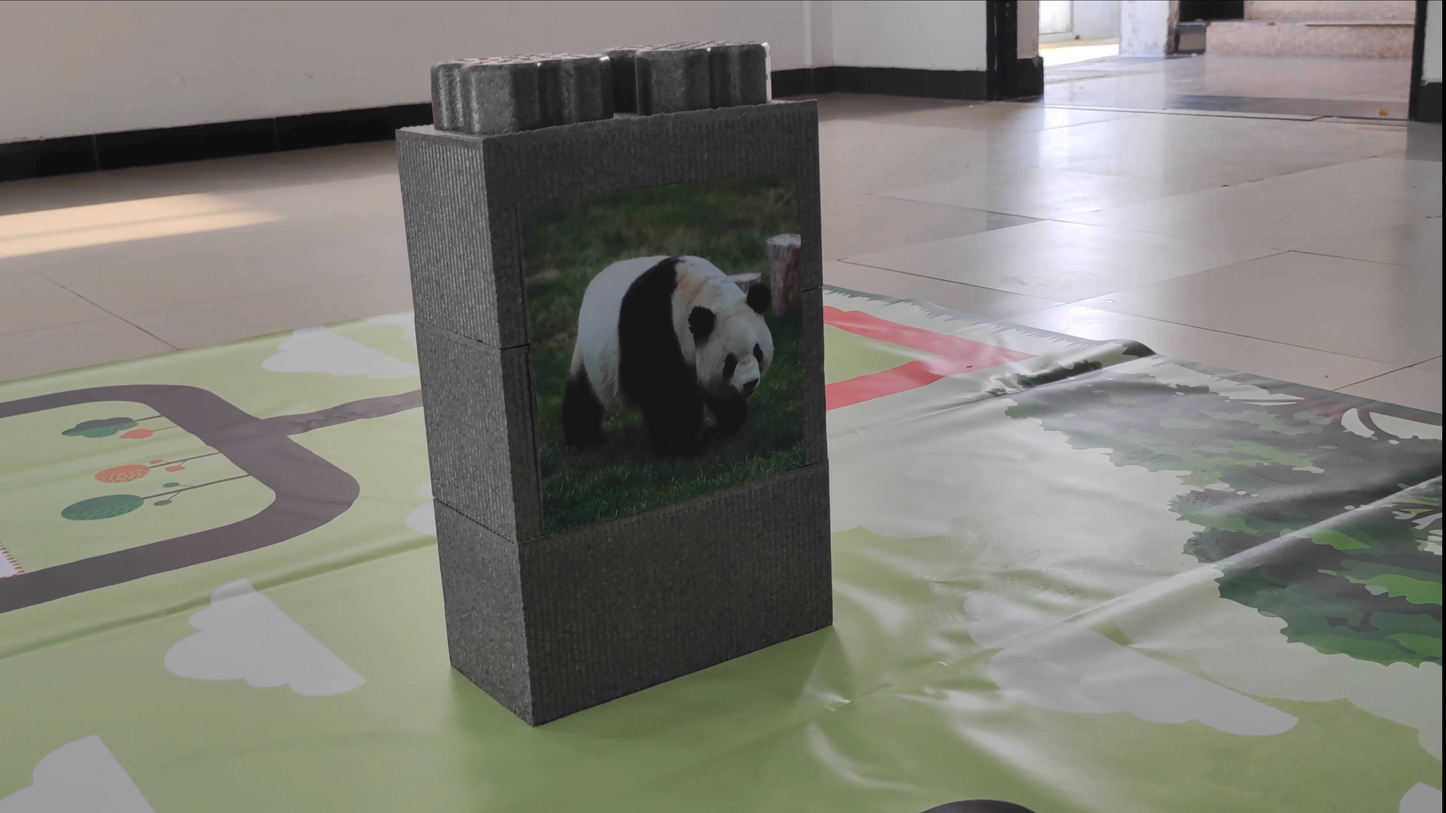panda: (531, 192, 818, 481)
